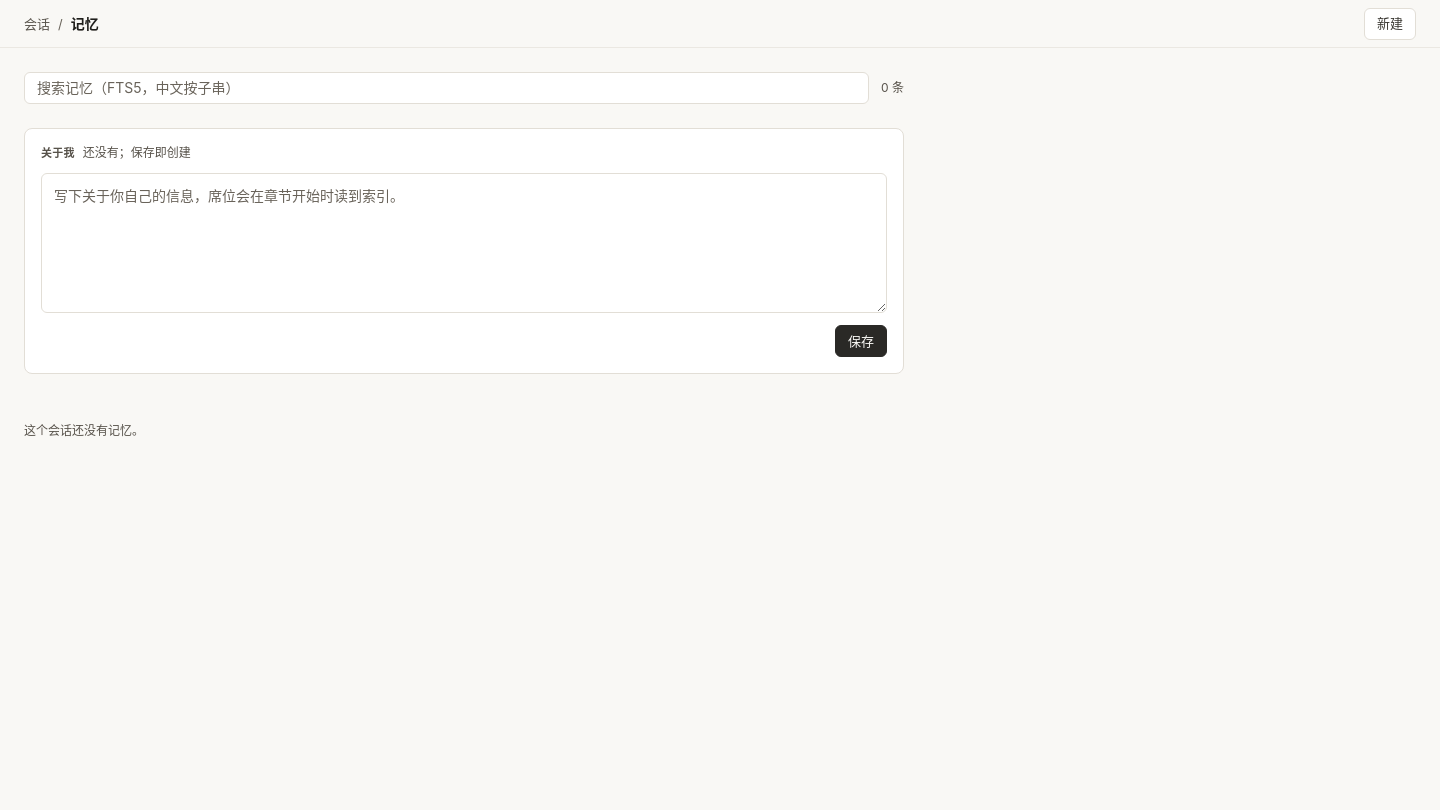
Test: the about-me editor waits for the server copy › offers the conflict when a server copy arrives under a blind dirty draft
The width and height of the screenshot is (1440, 810).
expect the button with test id "memory-about-save" is enabled: met, box [835, 325, 887, 357]
Type "blind draft" into the text box with test id "memory-about-body" at (464, 243), box [41, 173, 887, 313]
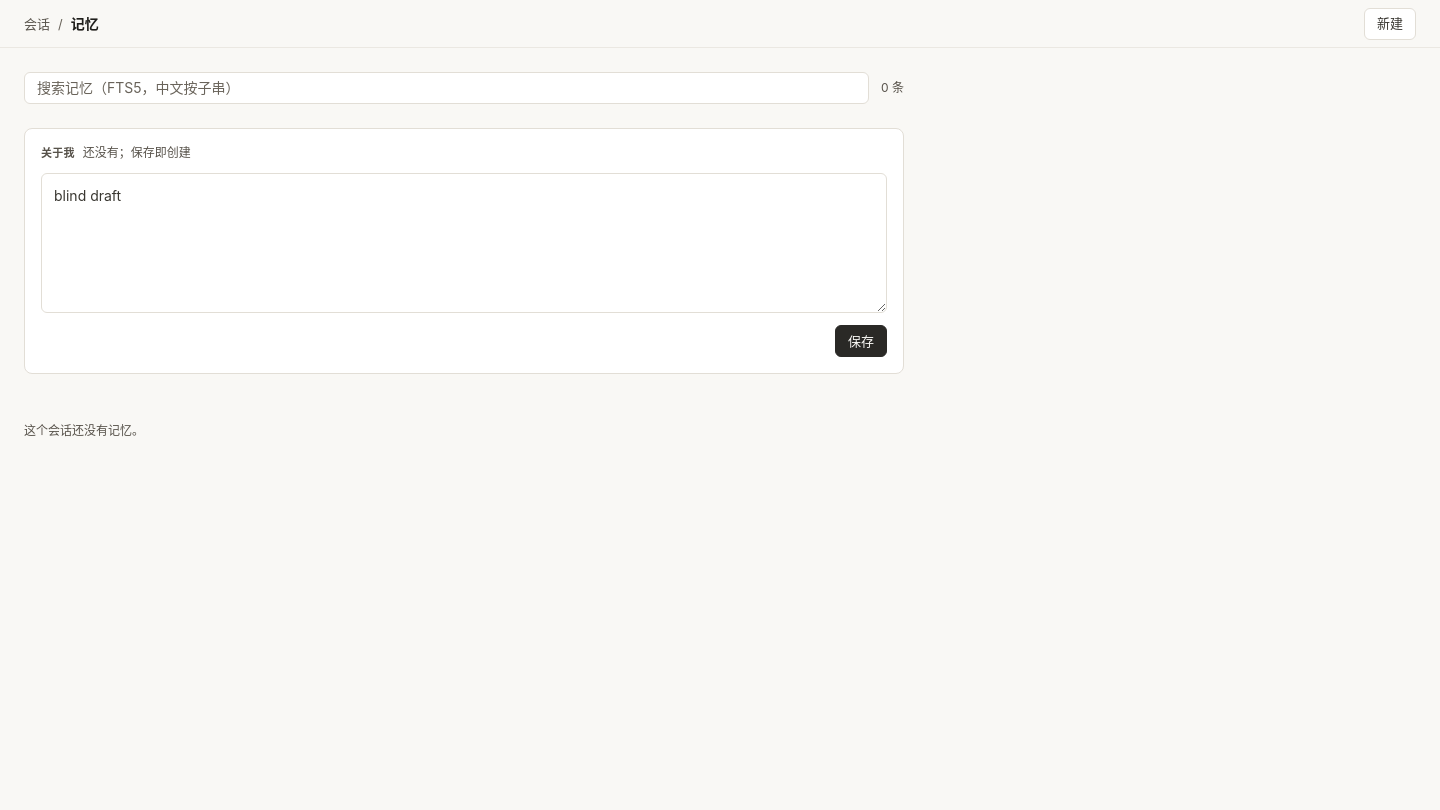
Type "边界" into the search field with test id "memory-search" at (446, 88), box [24, 72, 869, 104]
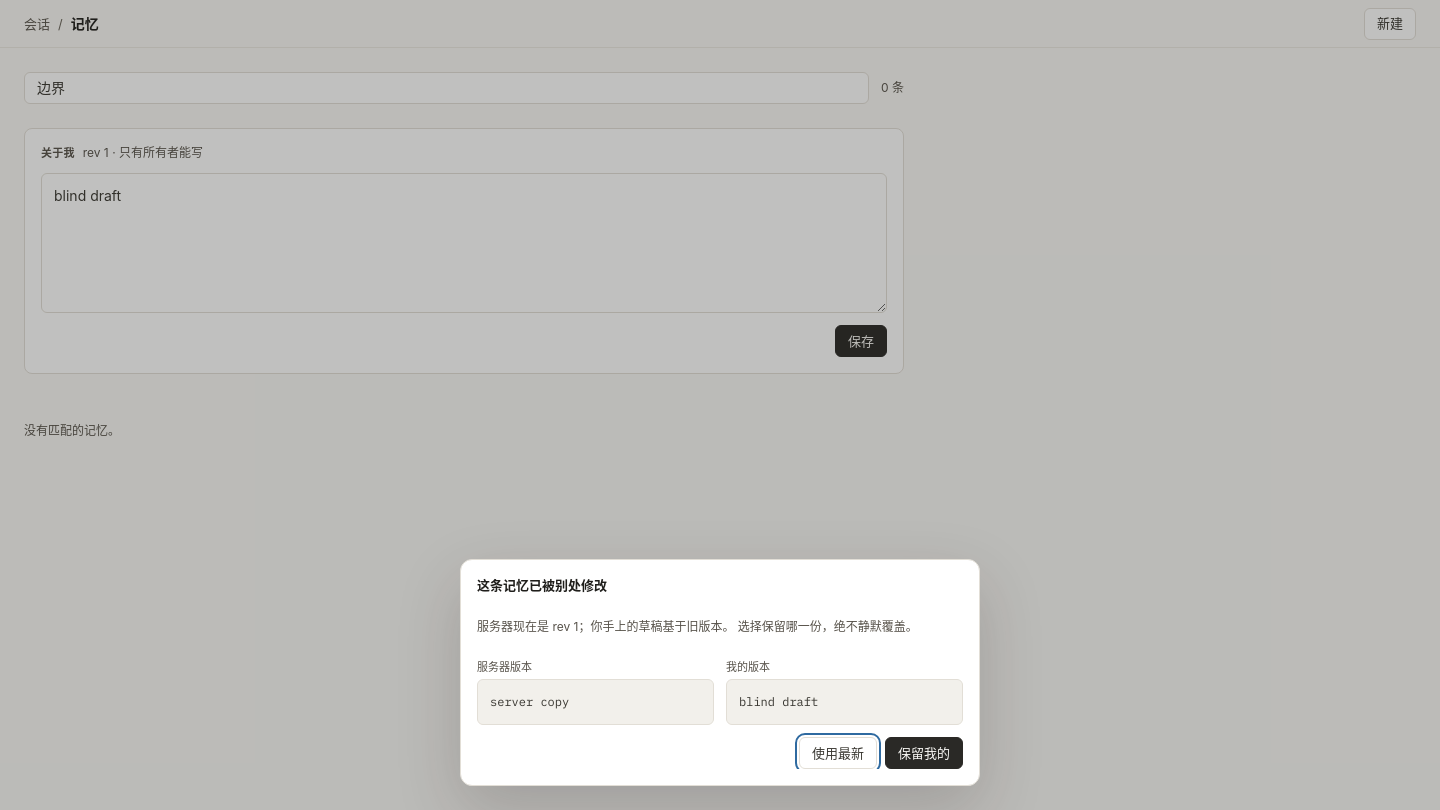
expect the element with test id "memory-conflict" is shown: met, box [477, 576, 963, 769]
expect the text with test id "memory-conflict-server" reads "server copy": met, box [490, 694, 569, 709]
expect the text with test id "memory-conflict-mine" reads "blind draft": met, box [739, 694, 818, 709]
